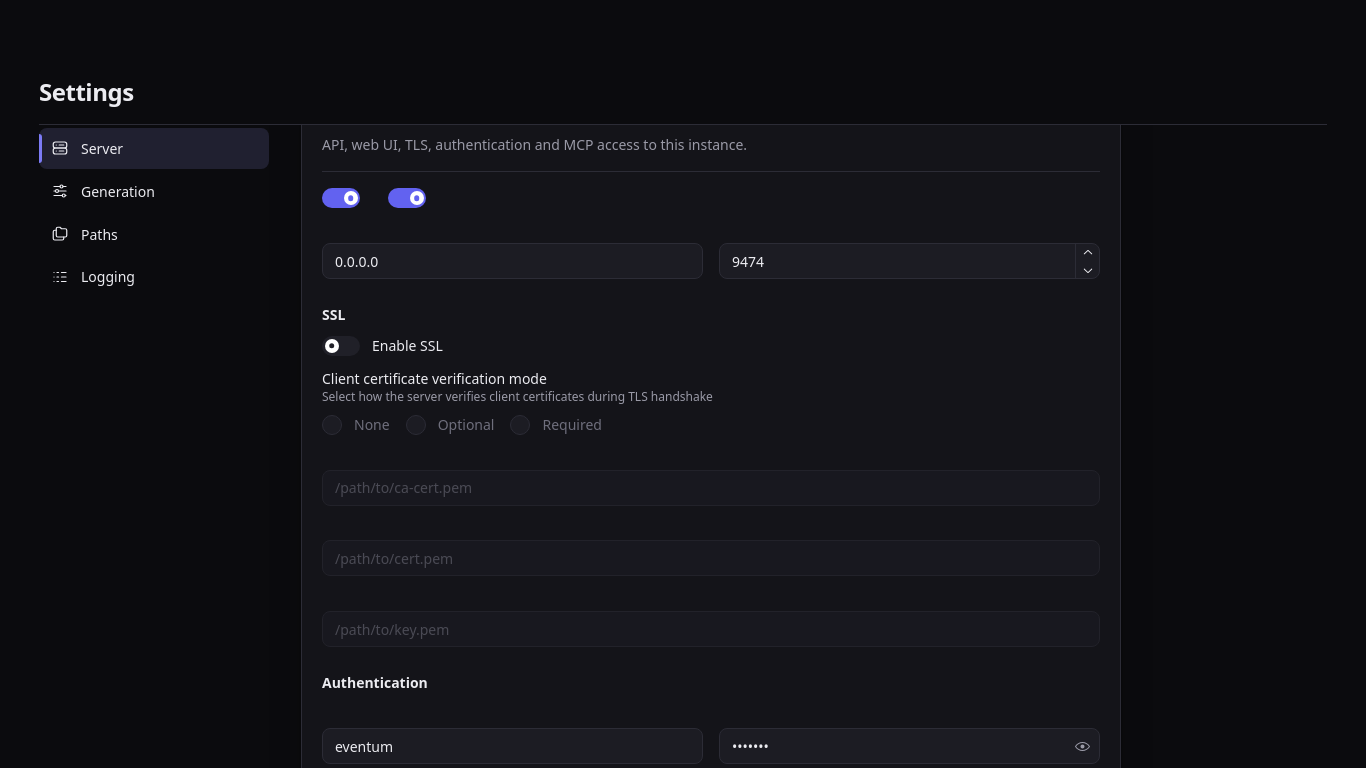
Test case: SettingsPage › shows the paths the instance reads from
Click the text "Paths" at (99, 234), box [81,225,118,244]
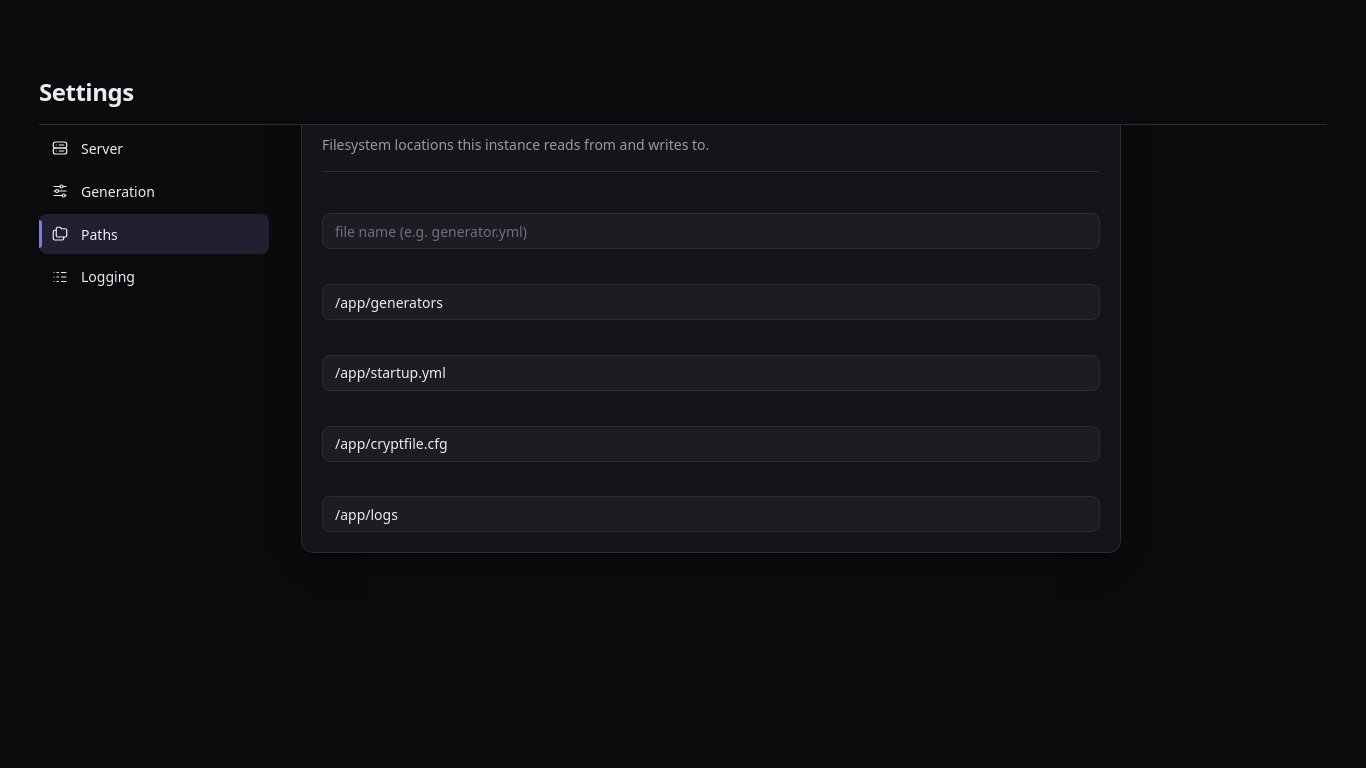
Check: the 4th field showing "/app/logs" is shown, box [322,496,1100,532]
Check: the 1st field showing "/app/generators" is shown, box [322,284,1100,320]
